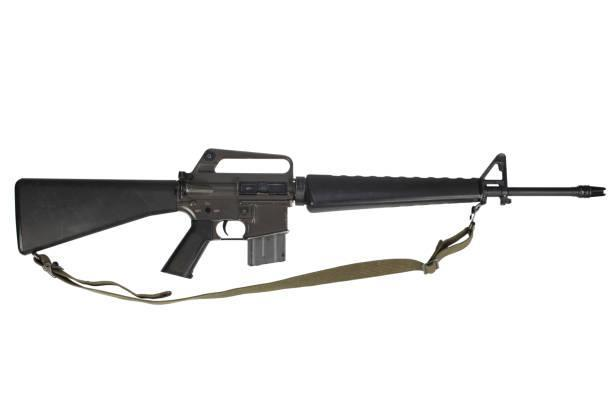larga: (13, 148, 607, 279)
